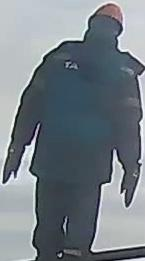gloves: (1, 140, 25, 187), (118, 164, 142, 209)
helmet: (85, 1, 125, 32)
vest: (30, 39, 137, 185)
